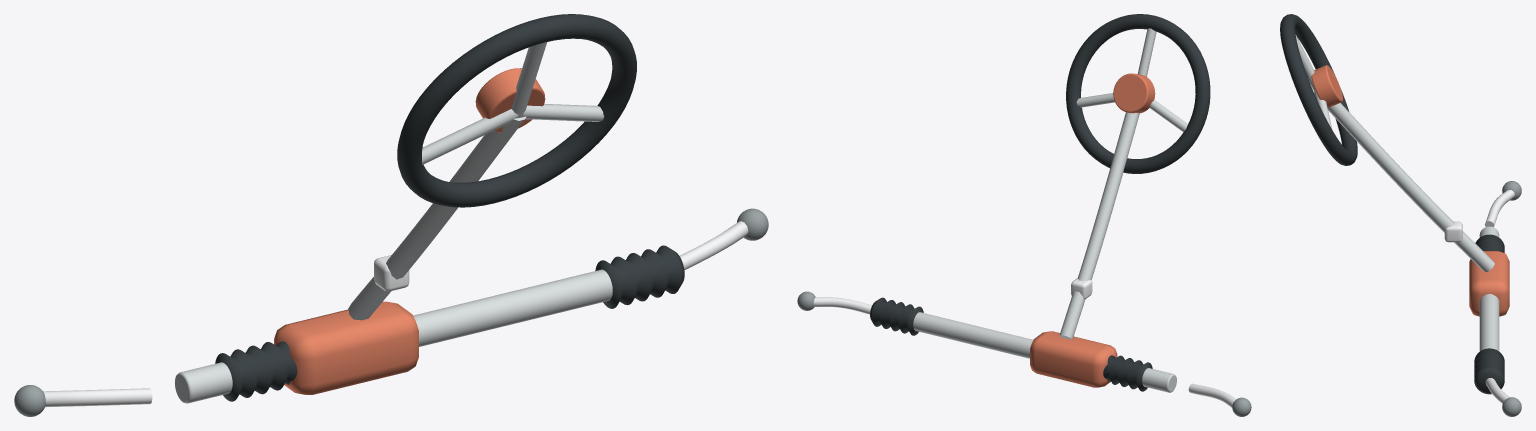
Rendered from steering_precision.fbx.
3 views of the same model, side by side, from view 1: azimuth 30°, elevation 25°; view 2: azimuth 150°, elevation 25°; view 3: azimuth 270°, elevation 25° (orthographic). The views are drawn at different scales.
Visible parts, largest first — view 1: steering_precision; view 2: steering_precision; view 3: steering_precision.
Part boxes in pixels (bbox=[...]): steering_precision: bbox=[14, 14, 768, 416]; steering_precision: bbox=[797, 14, 1251, 416]; steering_precision: bbox=[1280, 14, 1521, 416].
Bounding box in the file's own units: 118 × 71.15 × 53.84.
